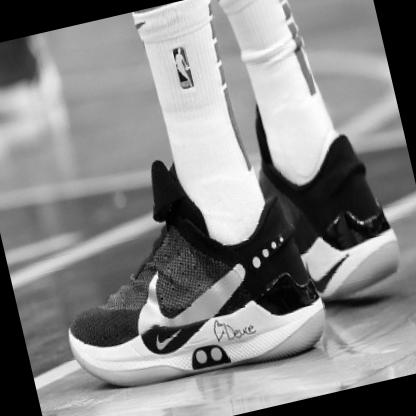ankle: (148, 97, 268, 256), (243, 63, 350, 191)
heel: (270, 267, 333, 355), (338, 206, 408, 284)
left_foot: (18, 130, 344, 416)
pinky: (75, 330, 100, 352)
right_foot: (244, 73, 416, 335)
